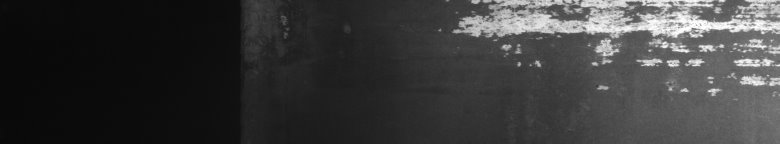kb: (508, 4, 776, 100)
